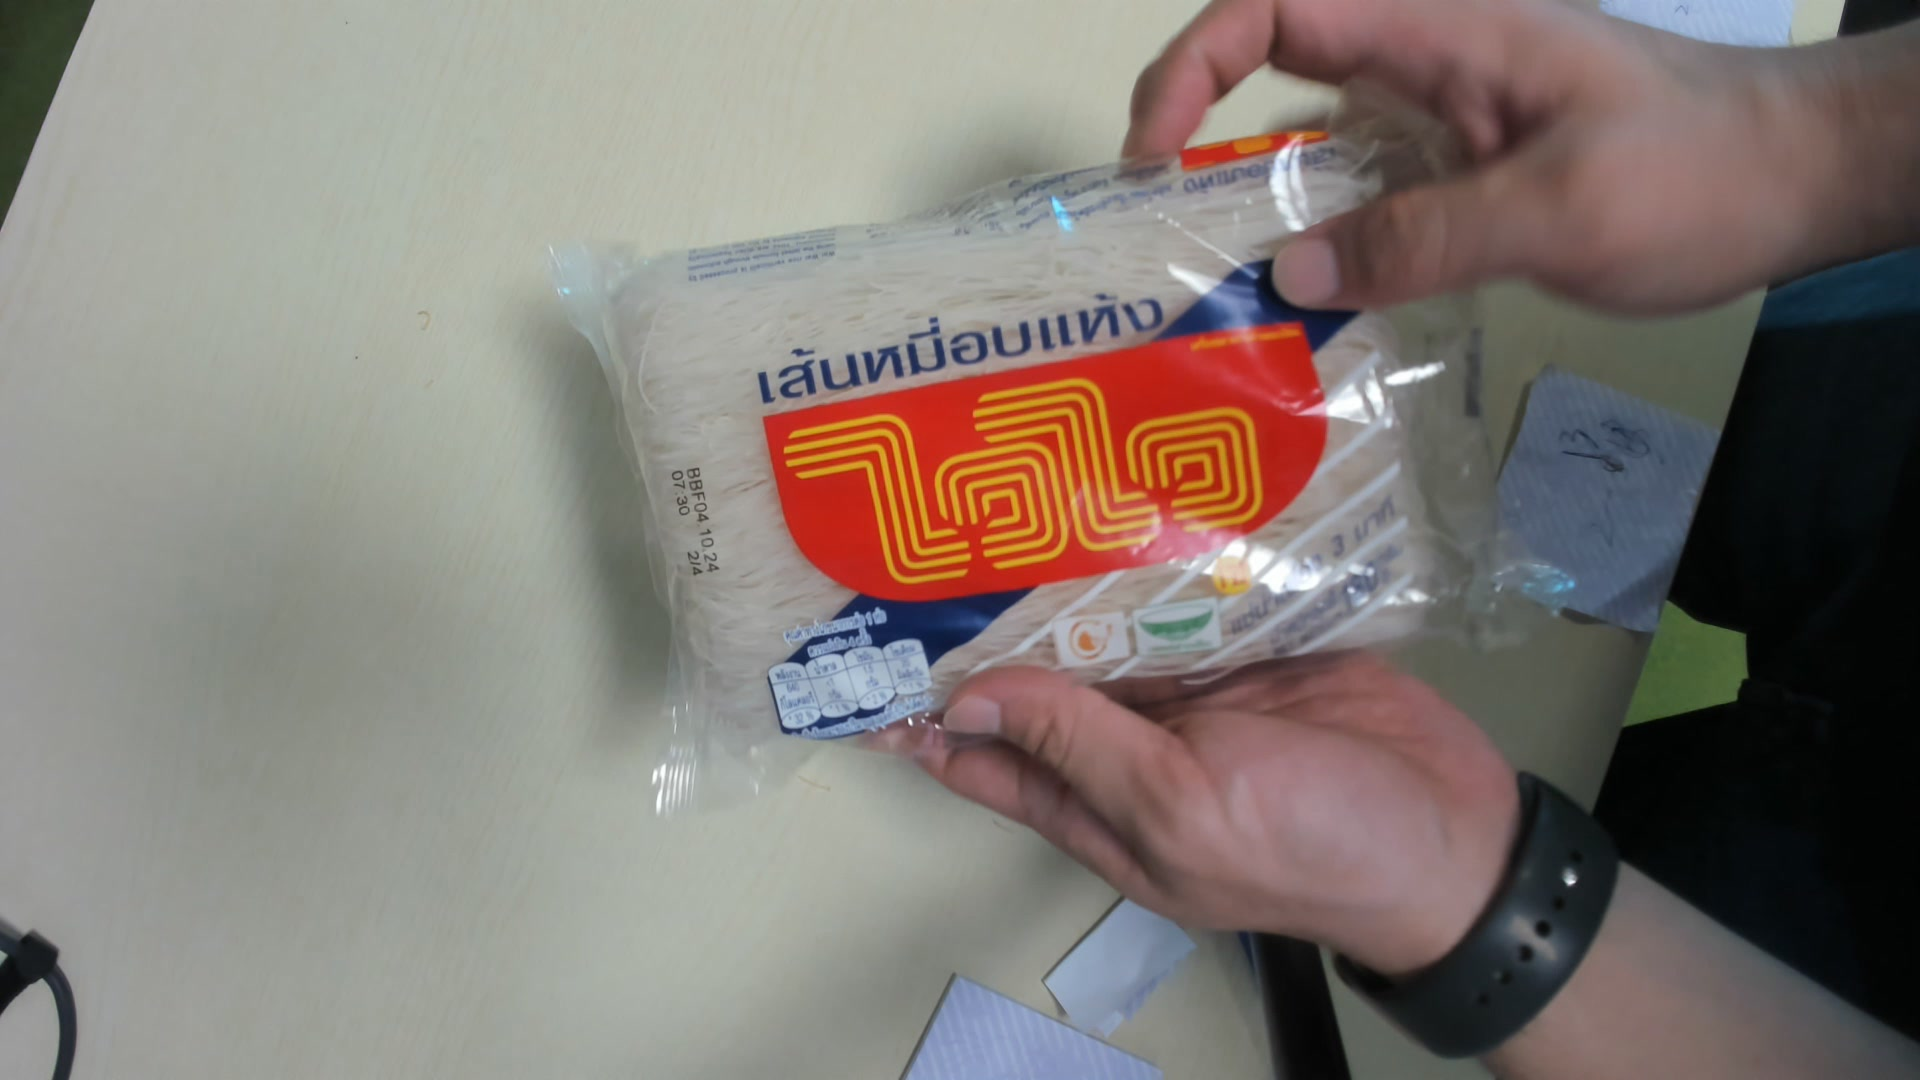BeeHoonVermicelli_100-199g_NonHalal_NonHealthy: (560, 127, 1505, 745)
